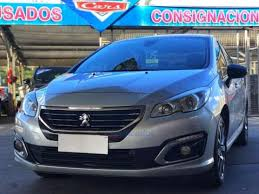car: (13, 34, 251, 185)
